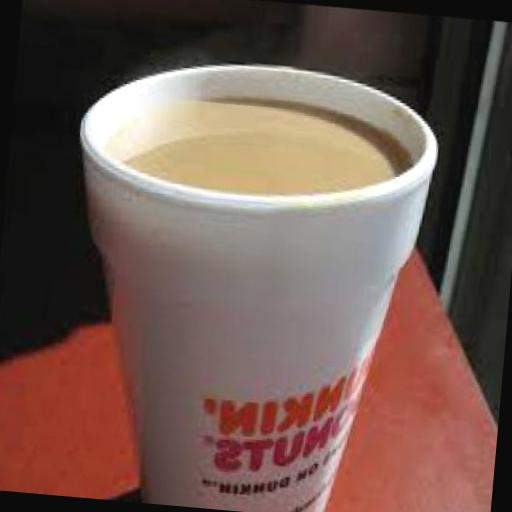paper: (48, 45, 445, 512)
